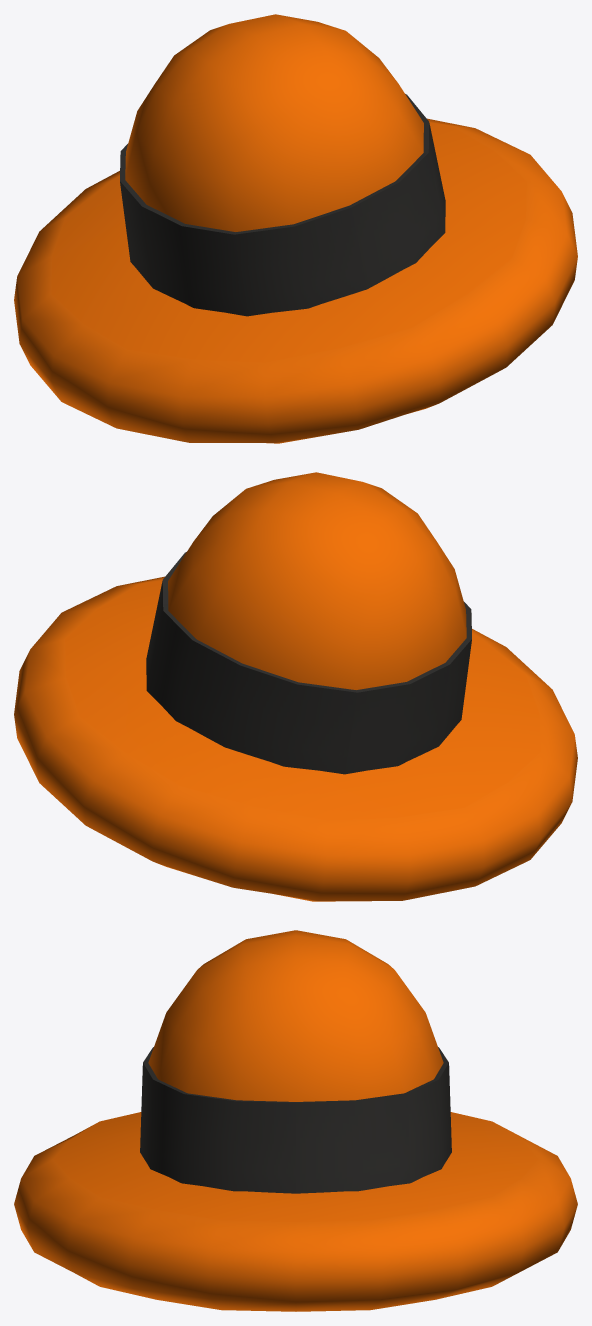
The model's file is mu phot.fbx.
The picture shows the model from 3 angles, top to bottom: view 1: azimuth 30°, elevation 25°; view 2: azimuth 150°, elevation 25°; view 3: azimuth 270°, elevation 25°; orthographic projection.
Parts seen in each view (by area): view 1: mu_phot; view 2: mu_phot; view 3: mu_phot.
Part boxes in pixels (left/top/right/bottom): mu_phot: left=14, top=14, right=577, bottom=443; mu_phot: left=14, top=472, right=577, bottom=901; mu_phot: left=14, top=930, right=577, bottom=1311.
Bounding box in the file's own units: 128 × 82.96 × 130.
